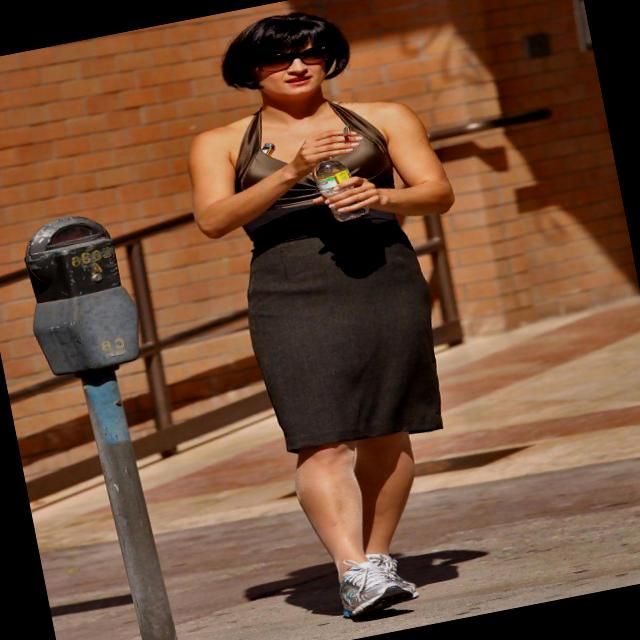smoke: (328, 113, 360, 150)
